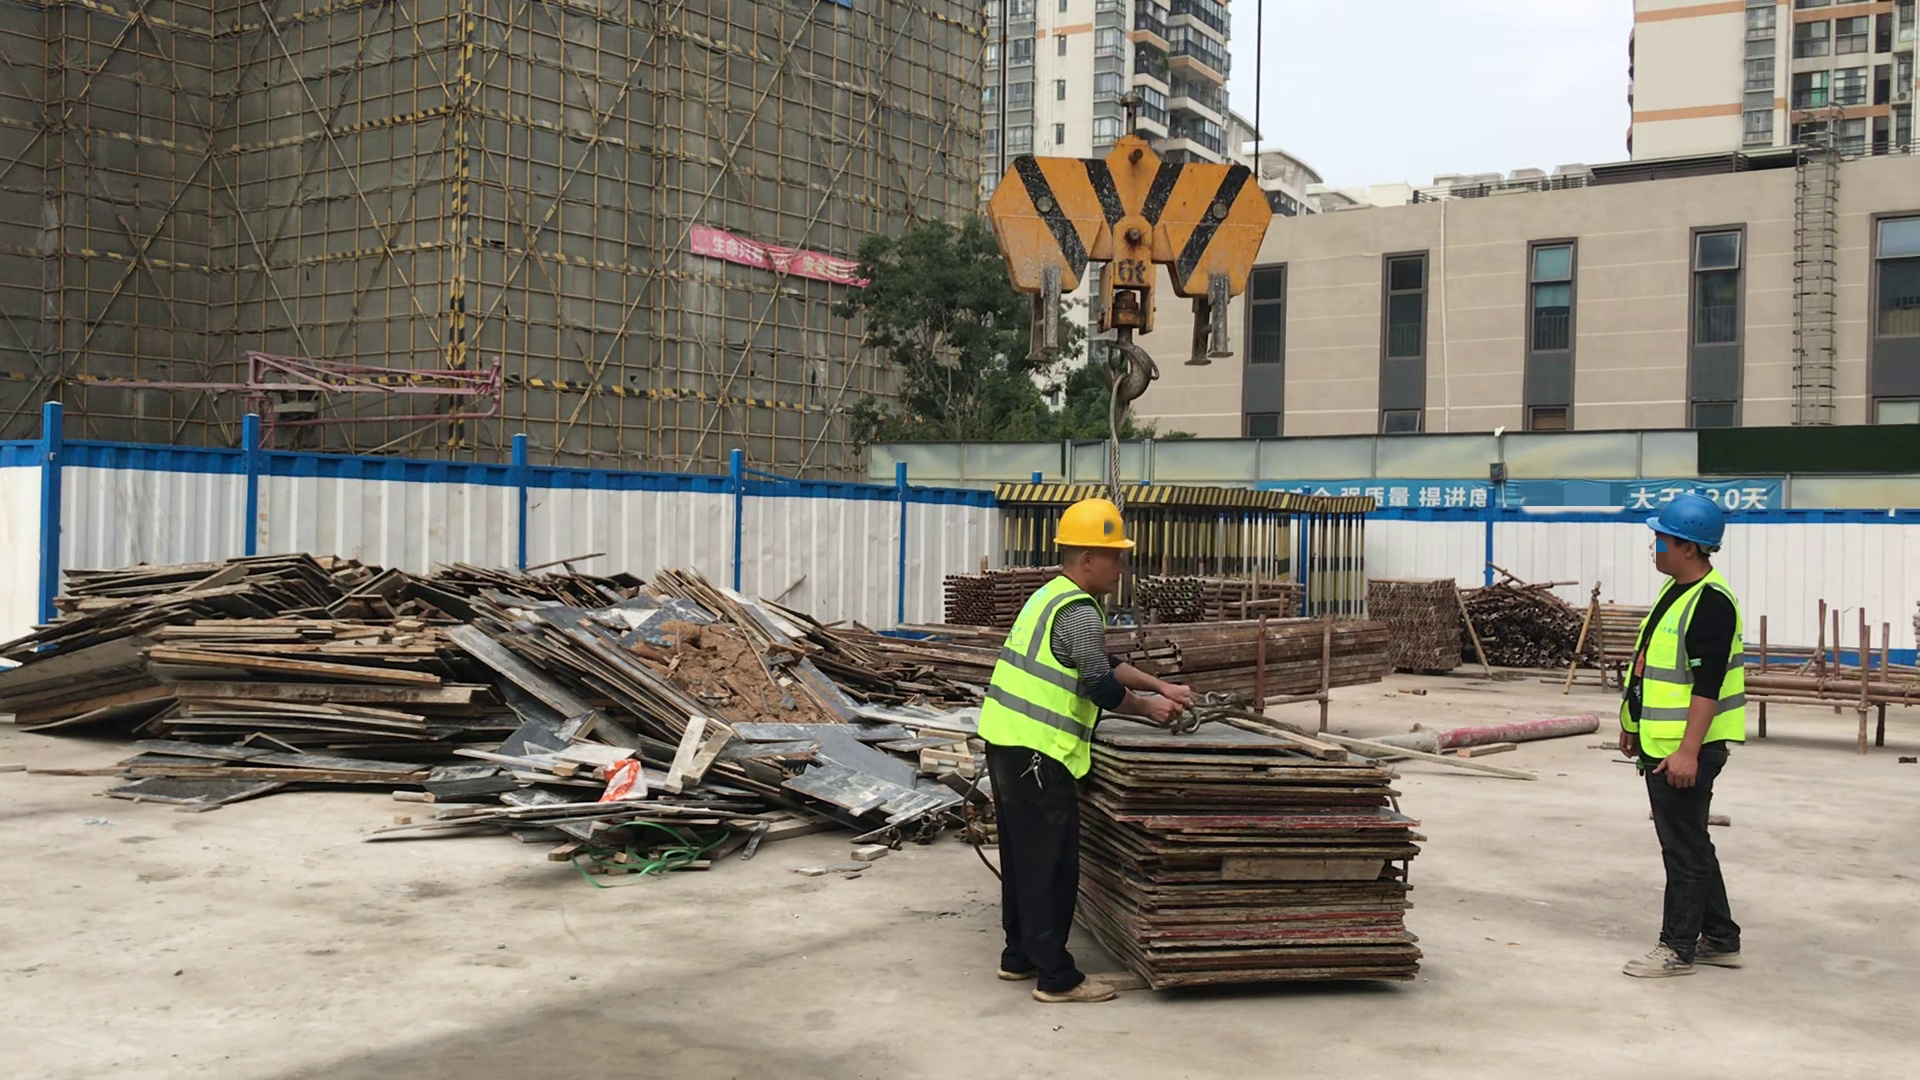board: (1099, 717, 1433, 998)
helmet: (1054, 497, 1140, 553), (1644, 494, 1726, 551)
hook: (981, 128, 1277, 408)
person: (981, 497, 1192, 1002), (1622, 491, 1760, 983)
scaffold: (1367, 578, 1454, 667), (1148, 572, 1306, 613), (943, 570, 1031, 626), (1592, 601, 1641, 660)
slogan: (1266, 479, 1780, 510), (691, 231, 862, 277)
vest: (984, 577, 1109, 776), (1626, 571, 1744, 769)
